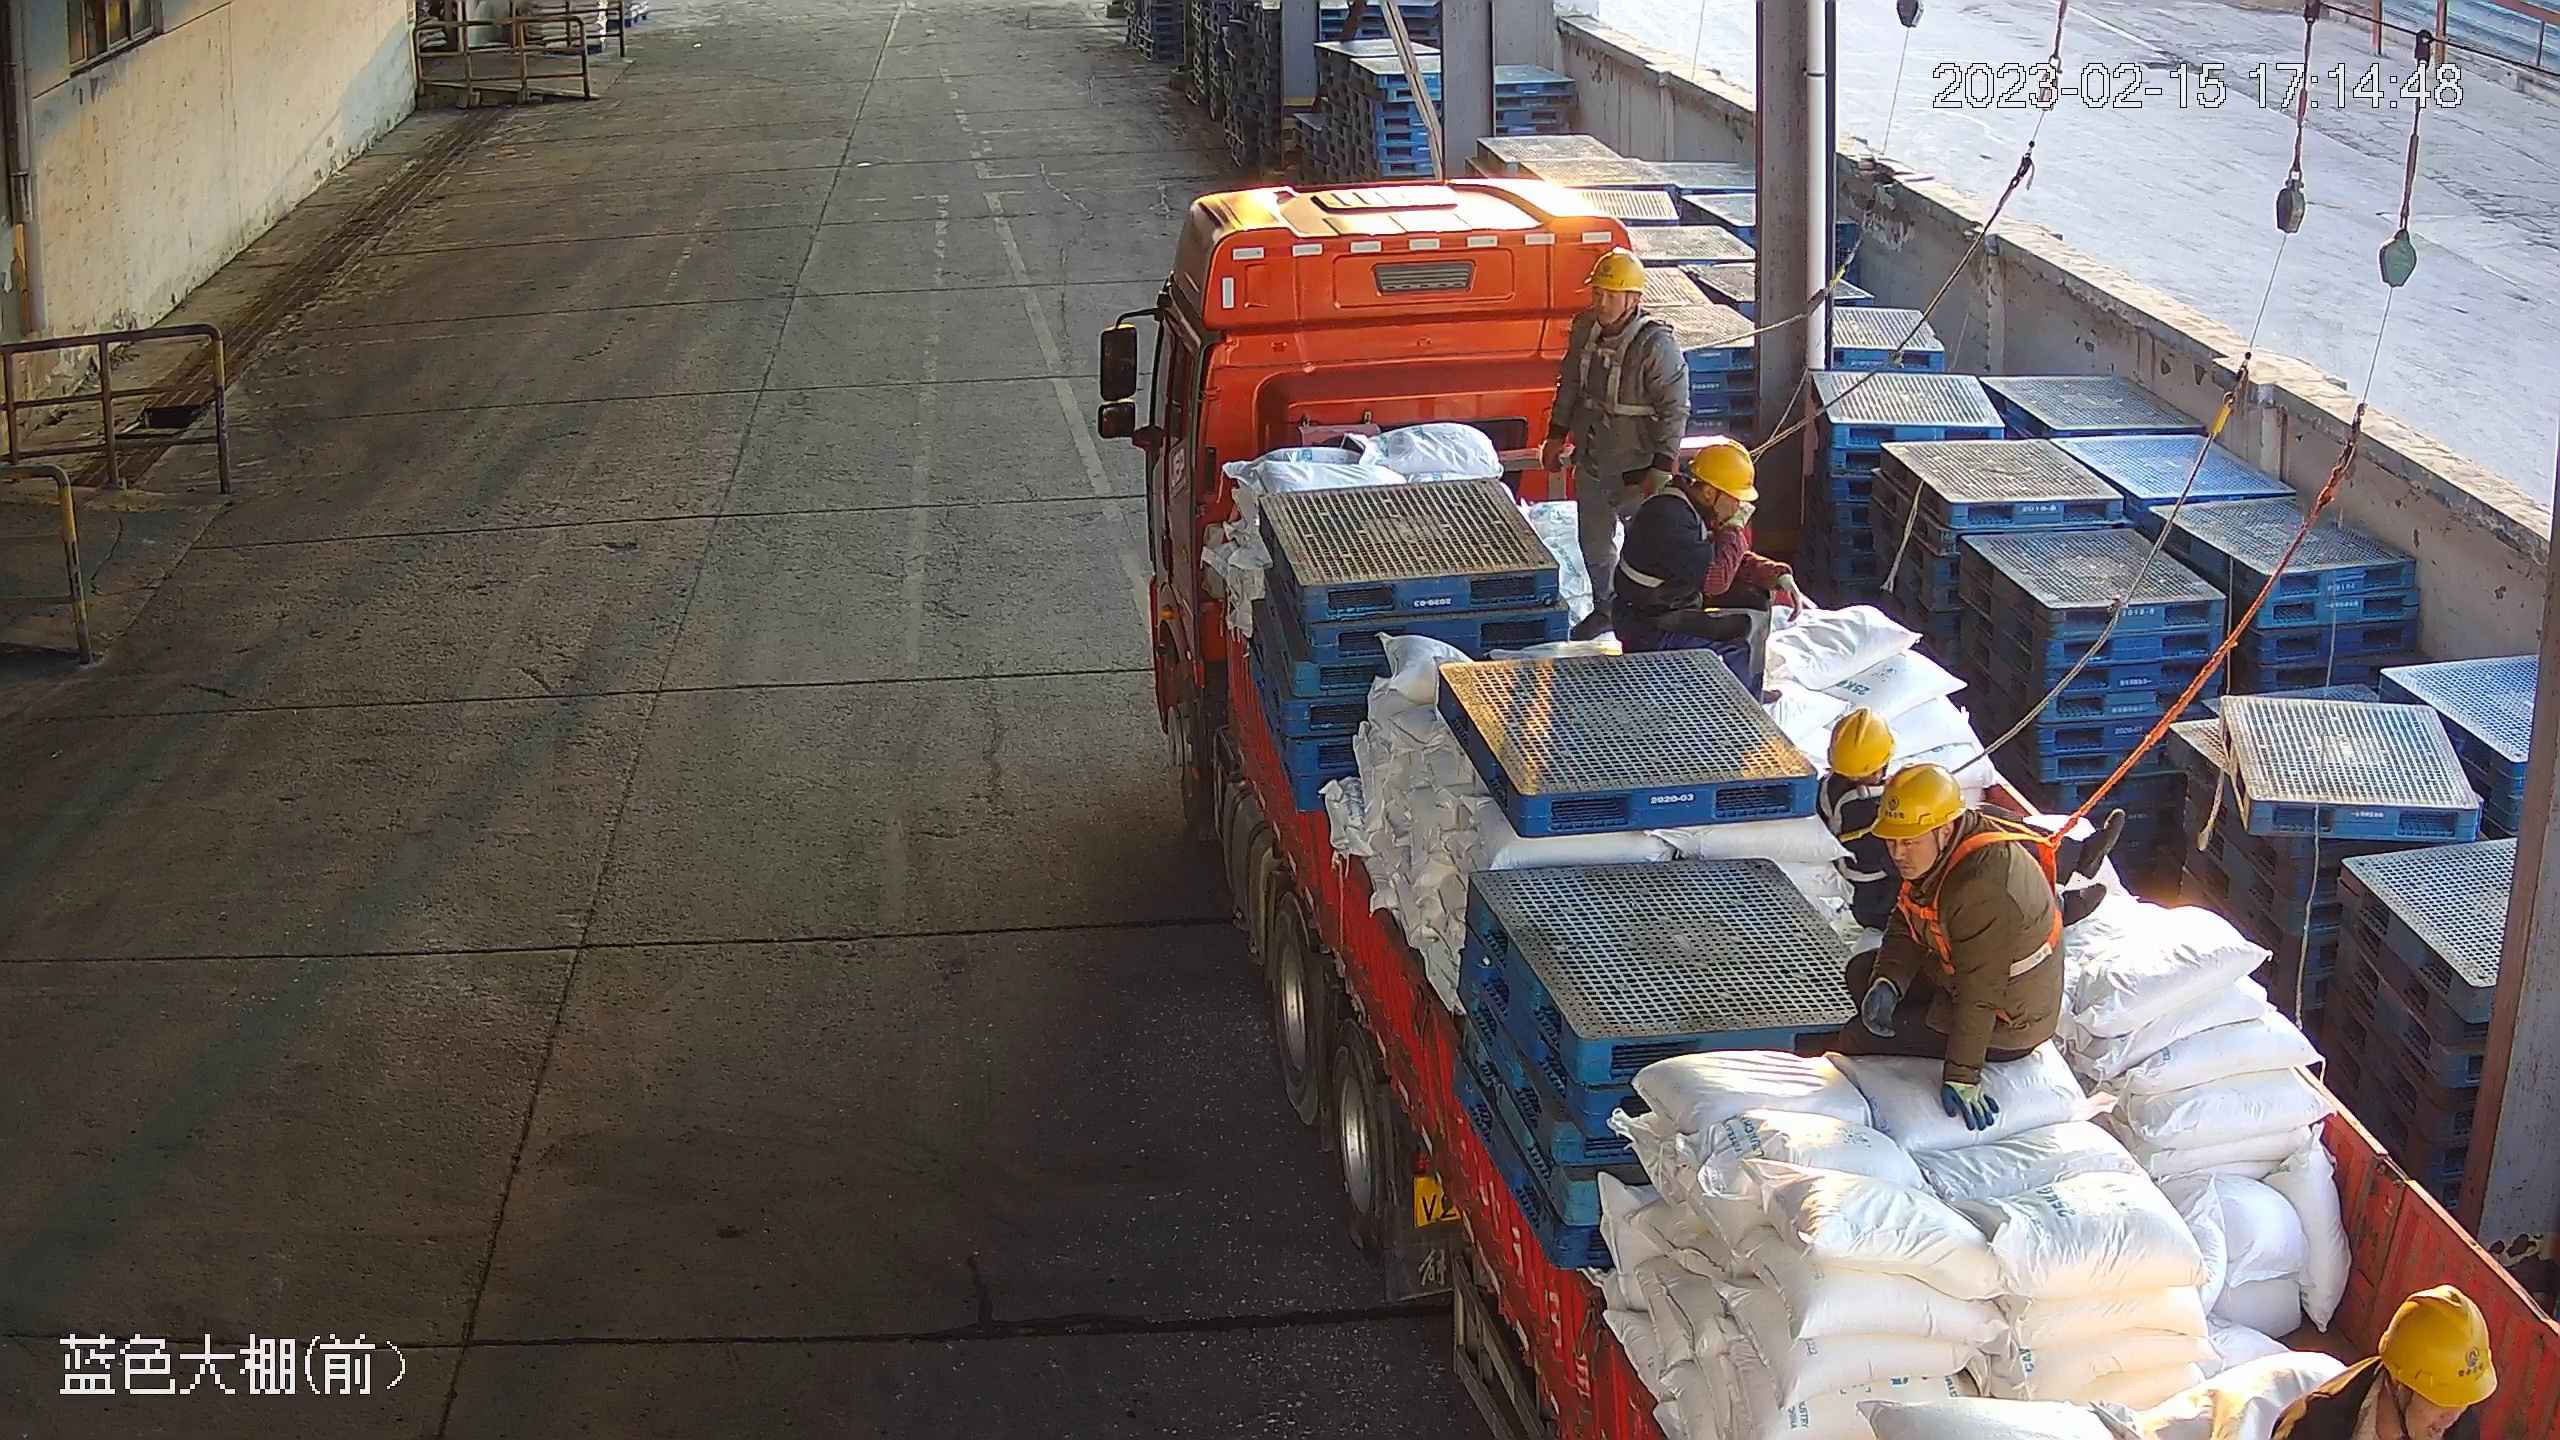belt: (1896, 812, 2067, 980), (1618, 475, 1710, 590), (1576, 315, 1666, 417), (1820, 772, 1887, 884)
head: (1868, 761, 2042, 920), (1562, 246, 1678, 358), (1630, 444, 1760, 543), (1816, 707, 1897, 810)
helmet: (2377, 1281, 2501, 1407), (1869, 760, 1970, 841), (1827, 706, 1897, 779), (1684, 444, 1760, 501), (1584, 247, 1647, 295)
people: (1833, 761, 2067, 1132), (1815, 705, 2125, 932), (1541, 245, 1690, 646), (1609, 442, 1803, 703)
truck: (1091, 173, 2560, 1440)
